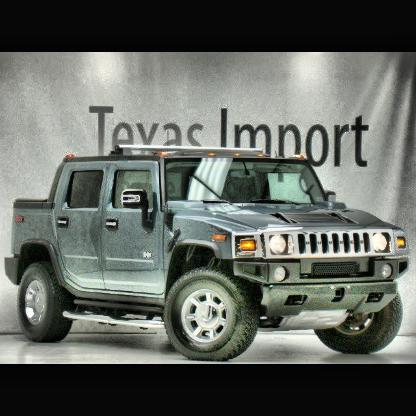HUMMER H2 SUT Crew Cab 2009: (6, 147, 411, 361)
